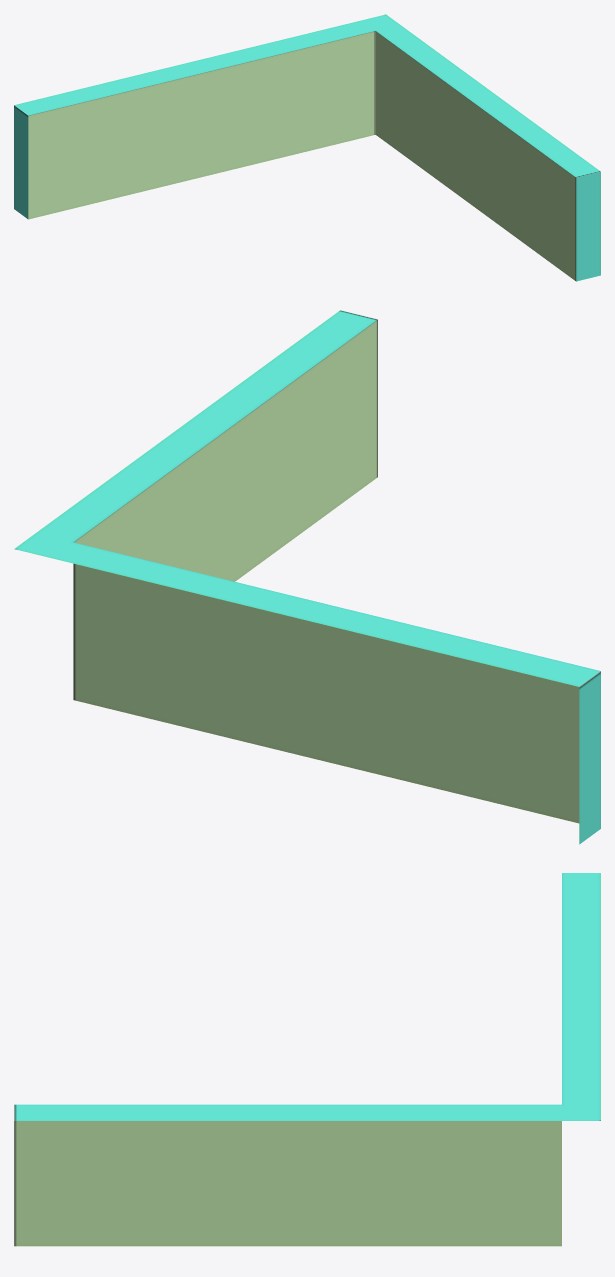
The model's file is MK_Wall_Trim_A_Corner_In.fbx.
3 renders of one model, top to bottom at view 1: azimuth 30°, elevation 25°; view 2: azimuth 150°, elevation 25°; view 3: azimuth 270°, elevation 25°, orthographic. The views are drawn at different scales.
Parts seen in each view (by area): view 1: Wall_Trim_A_Corner_In; view 2: Wall_Trim_A_Corner_In; view 3: Wall_Trim_A_Corner_In.
Part boxes in pixels (box(x1,y1,x2,y2)): Wall_Trim_A_Corner_In: box(14, 14, 600, 281); Wall_Trim_A_Corner_In: box(14, 310, 600, 844); Wall_Trim_A_Corner_In: box(14, 873, 600, 1246).
Bounding box in the file's own units: 169 × 45 × 169.
1 material, 1 textured.
